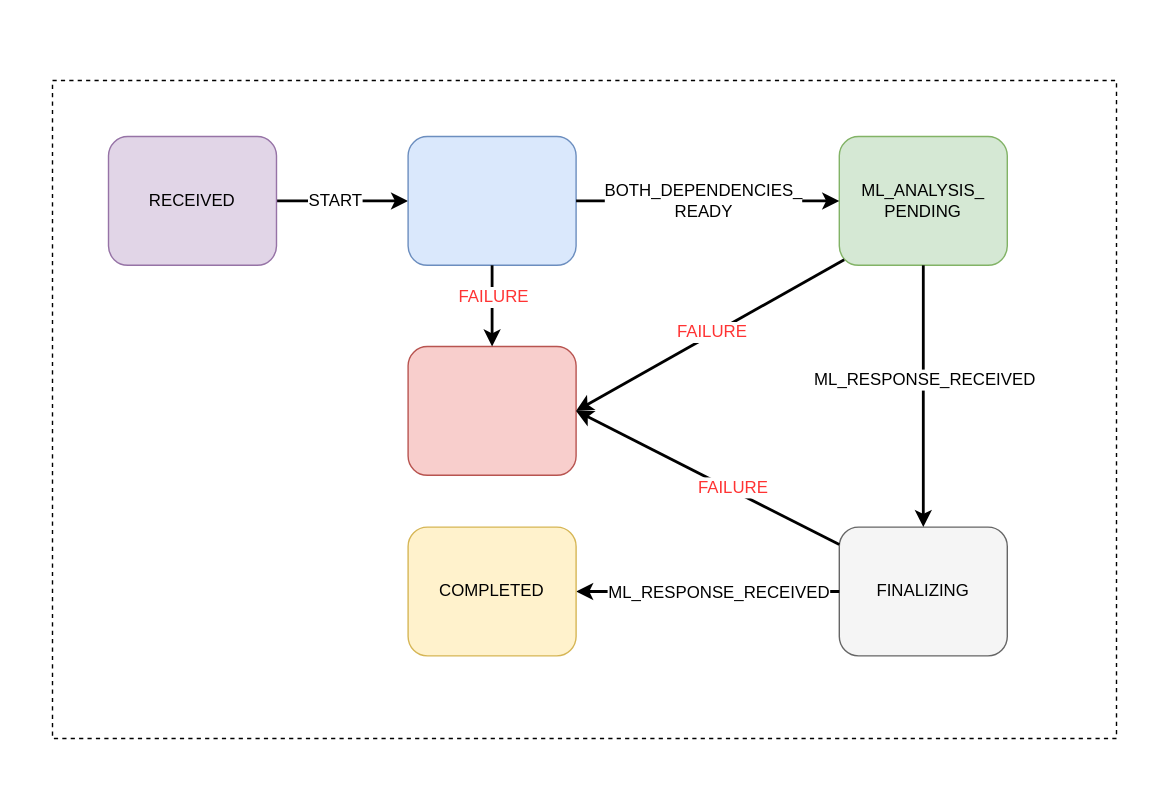
Image size: 1168x804. Some labels were removed from this diagram. The shapes that lost their labels are listed below. From the top down, each one's centre as x and y in pixels, then its label:
At (x=491, y=200): "WAITING_FOR_ DEPENDENCIES".
At (x=491, y=410): "FAILED".
